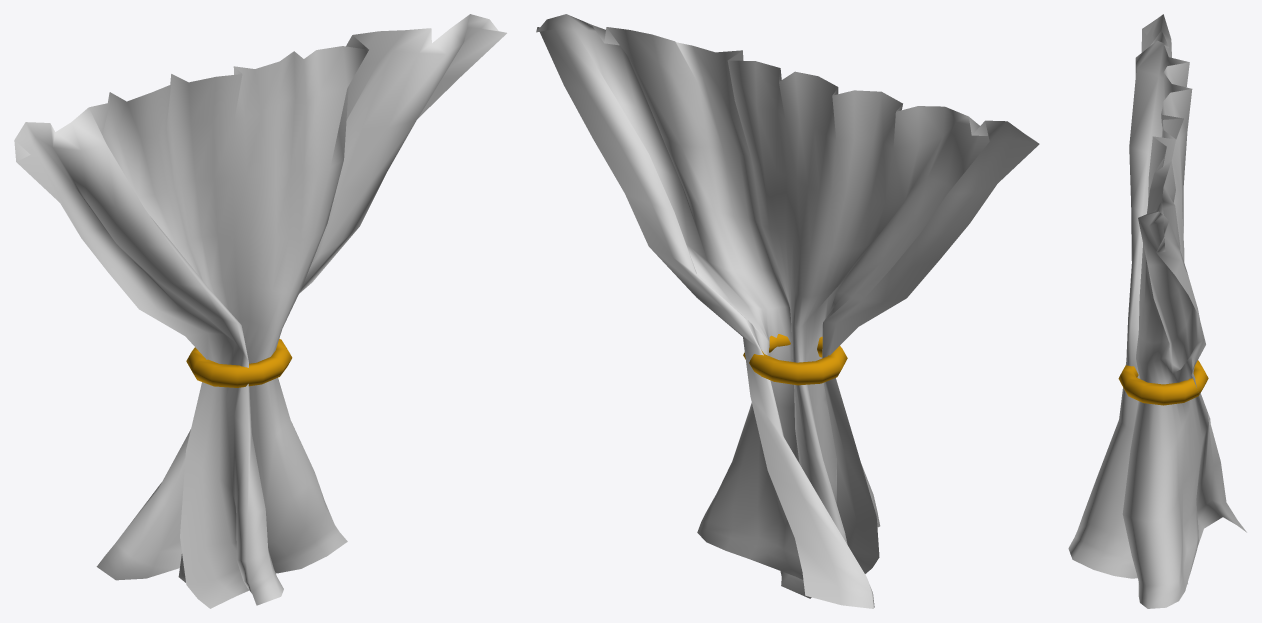
Rendered from CortinaAbertaOW.fbx.
3 renders of one model, left to right at view 1: azimuth 30°, elevation 25°; view 2: azimuth 150°, elevation 25°; view 3: azimuth 270°, elevation 25°, orthographic. The views are drawn at different scales.
Parts seen in each view (by area): view 1: Plane.004; view 2: Plane.004; view 3: Plane.004.
Boxes of the visible parts, <box> form: Plane.004: <box>14,14,506,608</box>; Plane.004: <box>536,14,1039,608</box>; Plane.004: <box>1068,14,1246,608</box>.
Size of the model in its own units: 224 by 224 by 75.43.
